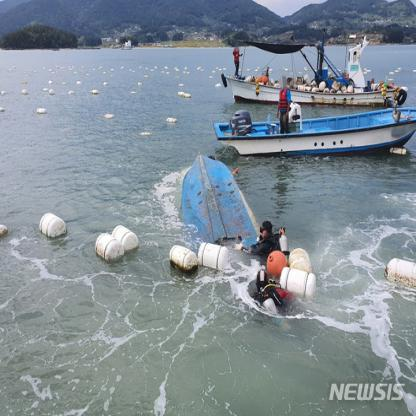fish-b: (209, 99, 416, 171), (215, 34, 410, 110)
